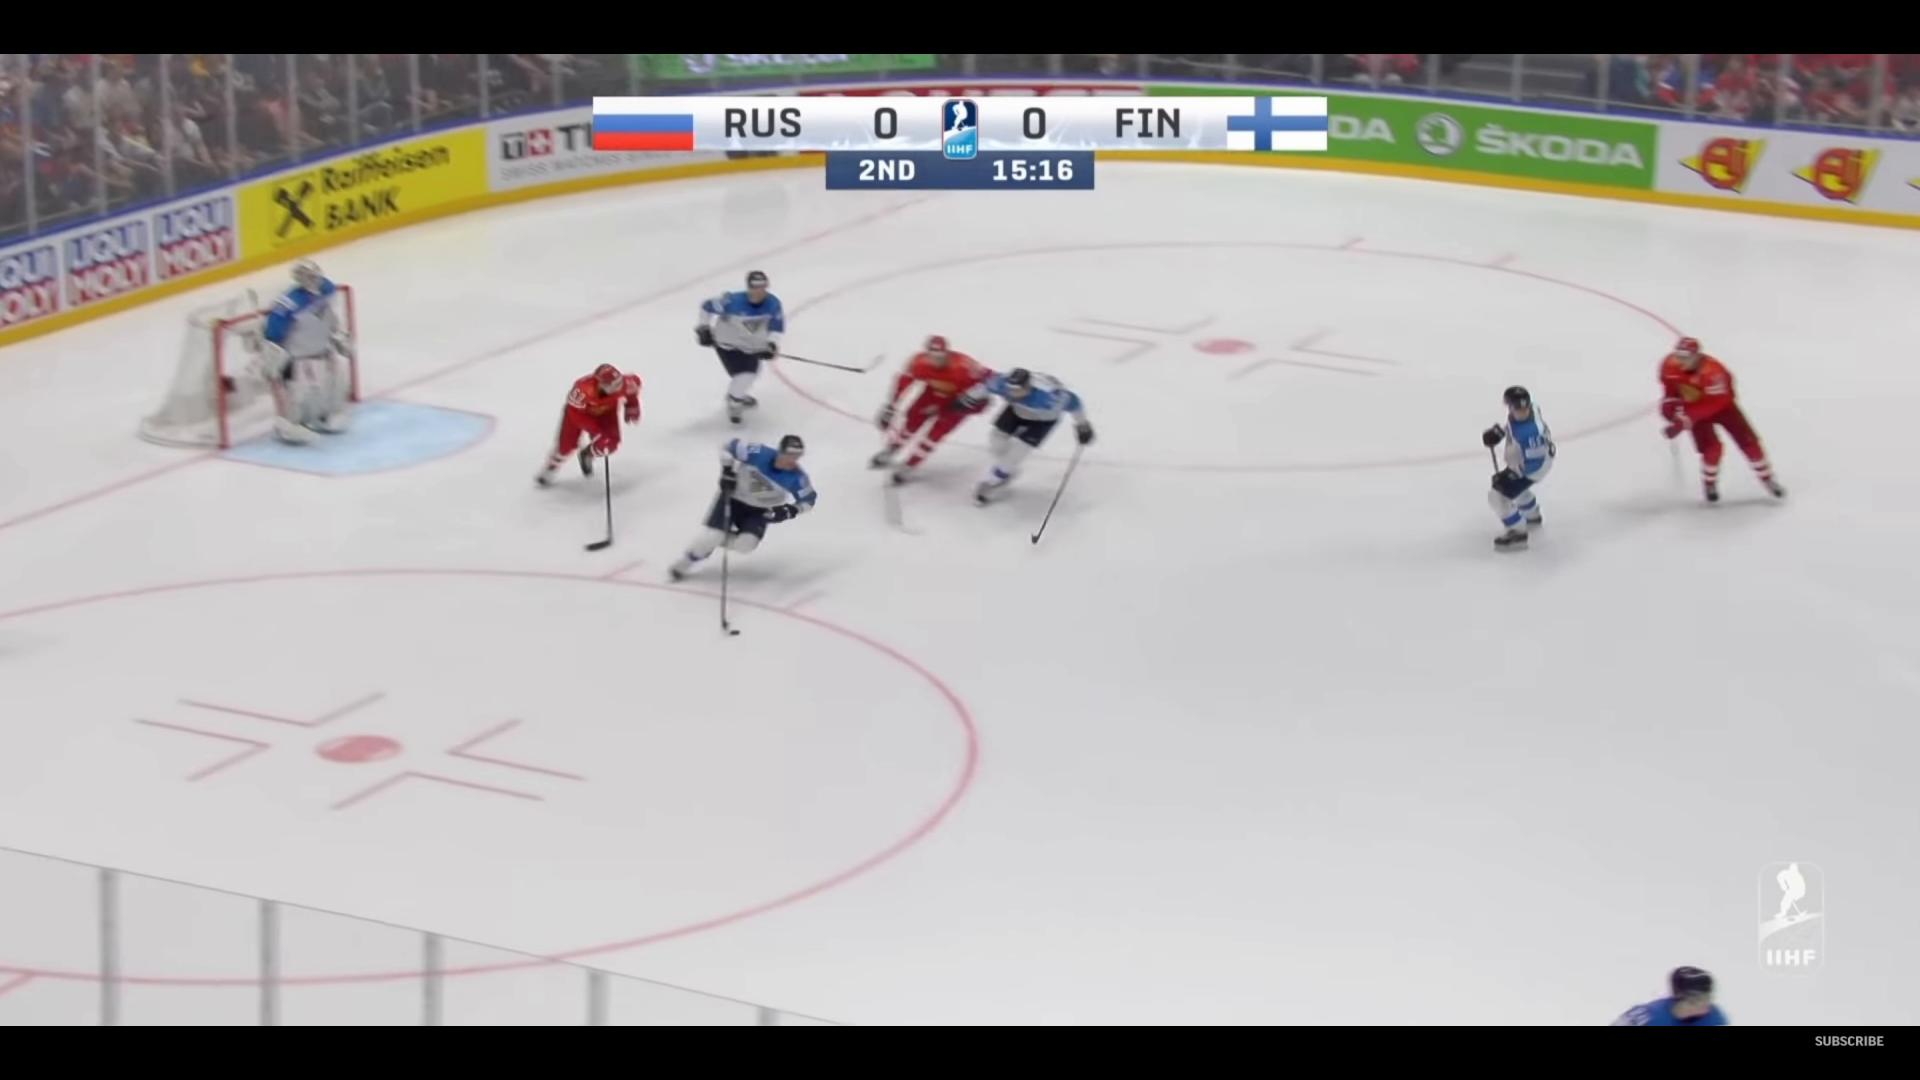puck: (728, 629, 740, 636)
